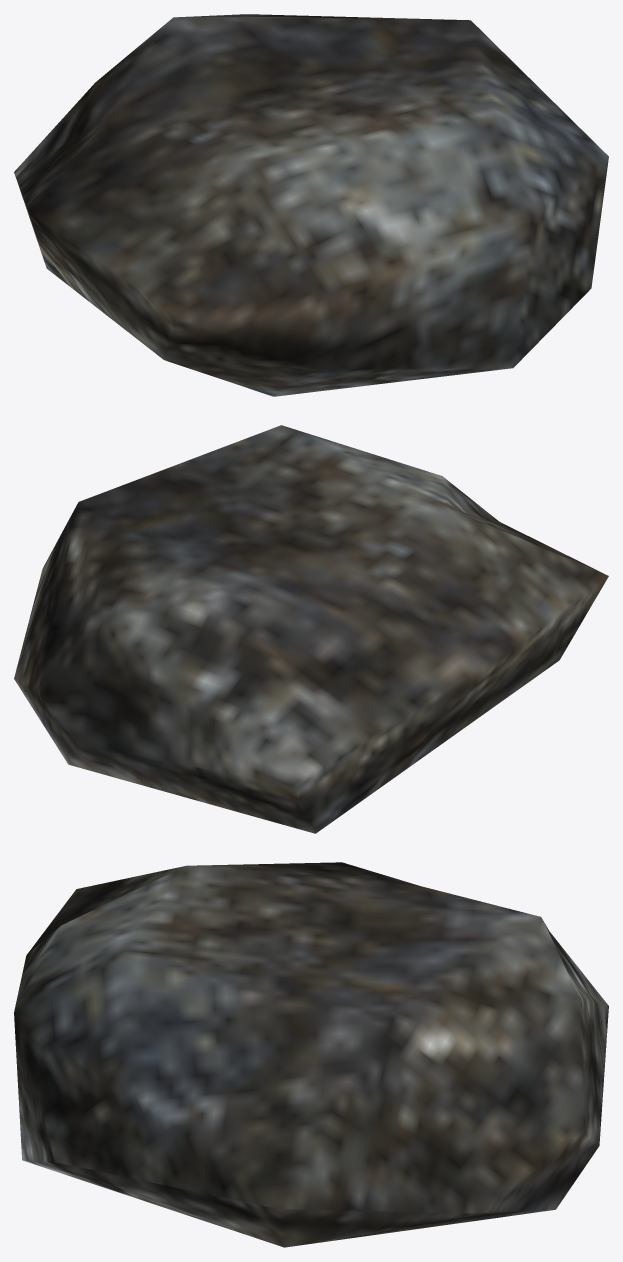
Rendered from Rock8B_LOD1.fbx.
3 renders of one model, top to bottom at view 1: azimuth 30°, elevation 25°; view 2: azimuth 150°, elevation 25°; view 3: azimuth 270°, elevation 25°, orthographic. The views are drawn at different scales.
Parts seen in each view (by area): view 1: Rock8B_Group15585; view 2: Rock8B_Group15585; view 3: Rock8B_Group15585.
Part boxes in pixels (bbox=[...]): Rock8B_Group15585: bbox=[14, 14, 608, 396]; Rock8B_Group15585: bbox=[14, 425, 608, 833]; Rock8B_Group15585: bbox=[14, 862, 608, 1247].
Bounding box in the file's own units: 4.29 × 1.99 × 3.88.
